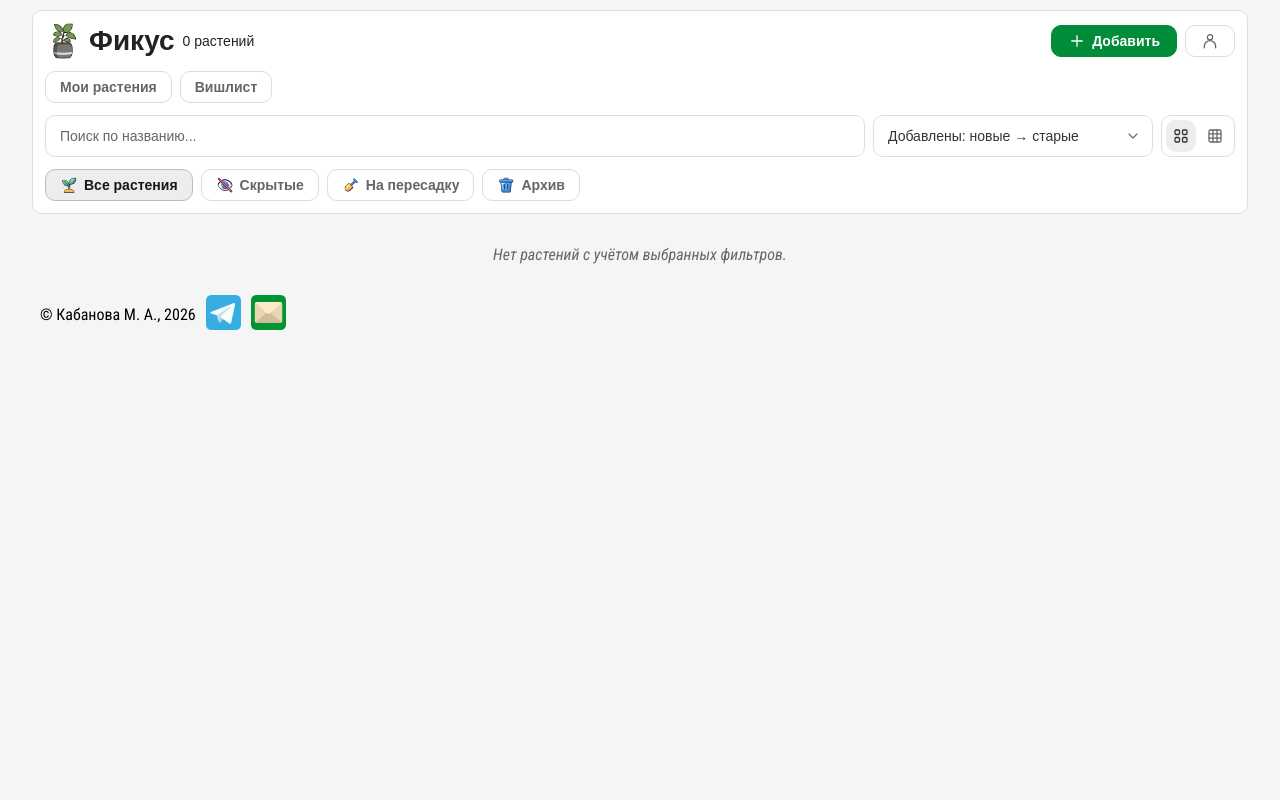
Test: summary uses all sold plants regardless of search and sorting
The width and height of the screenshot is (1280, 800).
Click the button "Архив". click: click(531, 185)
box: [482,169,580,201]
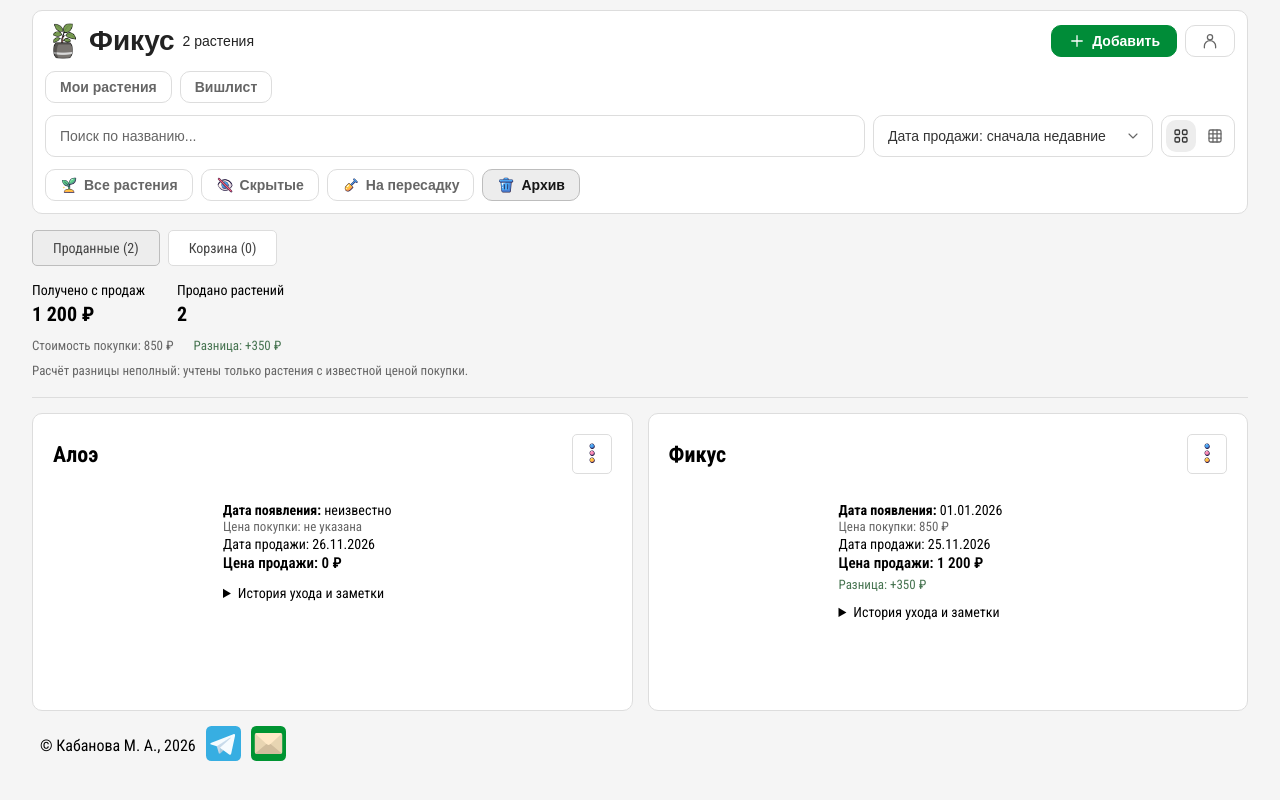
Select "Дата продажи: сначала ранние" in the dropdown. click: (1013, 136)
box: [873,115,1153,157]
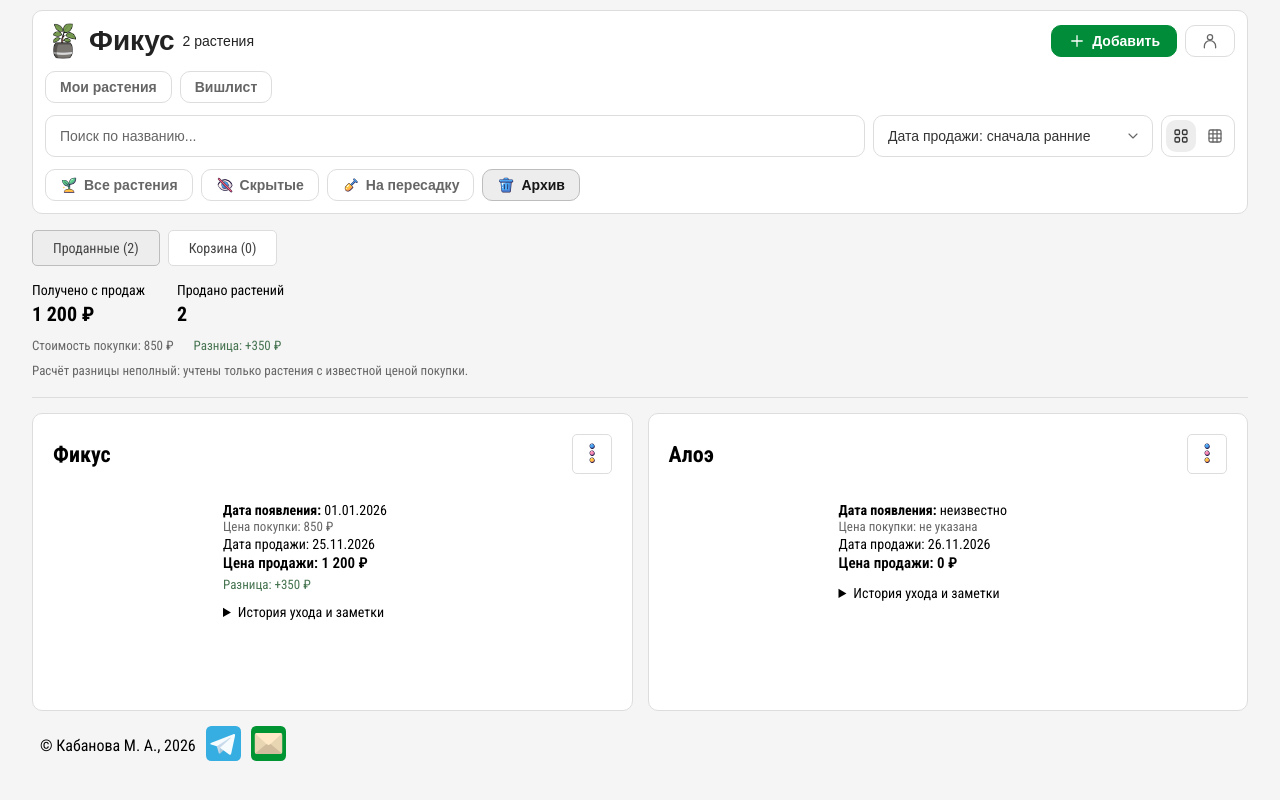
Type "ФИКУС" into the search field. click: (455, 136)
box: [45,115,865,157]
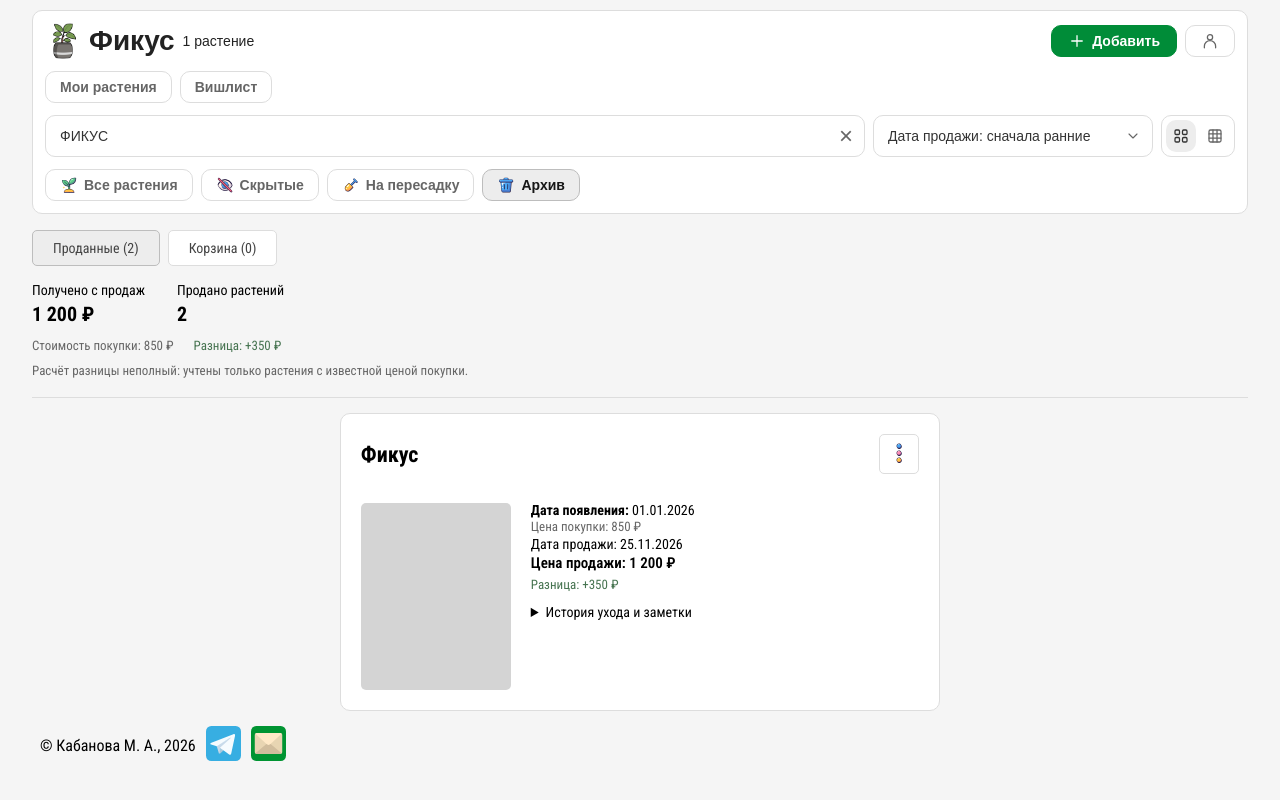
Now the element named "Сводка продаж" shows "неполный", box [32,363,468,378]
Now the number of list items "Фикус" is 1, box [340,412,940,711]
